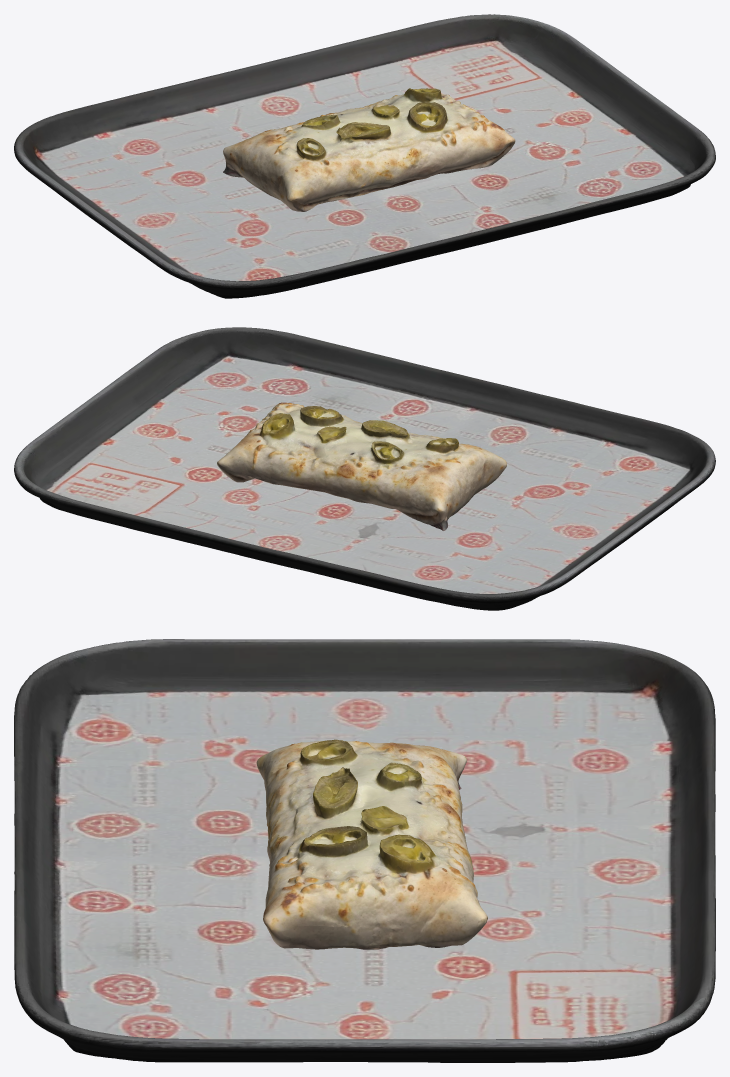
The model's file is soicy.king.glb.
The picture shows the model from 3 angles, top to bottom: view 1: azimuth 30°, elevation 25°; view 2: azimuth 150°, elevation 25°; view 3: azimuth 270°, elevation 25°; orthographic projection. The views are drawn at different scales.
Parts seen in each view (by area): view 1: /Root/Scenes/Scene/Object_37/Object_41/Object_42/Submesh_0, /Root/Scenes/Scene/Object_37/Object_38/Submesh_0; view 2: /Root/Scenes/Scene/Object_37/Object_41/Object_42/Submesh_0, /Root/Scenes/Scene/Object_37/Object_38/Submesh_0; view 3: /Root/Scenes/Scene/Object_37/Object_41/Object_42/Submesh_0, /Root/Scenes/Scene/Object_37/Object_38/Submesh_0.
Boxes of the visible parts, <box> form: /Root/Scenes/Scene/Object_37/Object_41/Object_42/Submesh_0: <box>14,14,715,298</box>; /Root/Scenes/Scene/Object_37/Object_38/Submesh_0: <box>223,88,515,211</box>; /Root/Scenes/Scene/Object_37/Object_41/Object_42/Submesh_0: <box>14,327,715,610</box>; /Root/Scenes/Scene/Object_37/Object_38/Submesh_0: <box>217,402,506,530</box>; /Root/Scenes/Scene/Object_37/Object_41/Object_42/Submesh_0: <box>14,639,715,1062</box>; /Root/Scenes/Scene/Object_37/Object_38/Submesh_0: <box>256,739,487,949</box>.
Size of the model in its own units: 0.5984 by 0.064 by 0.4376.
2 materials, 2 textured.
